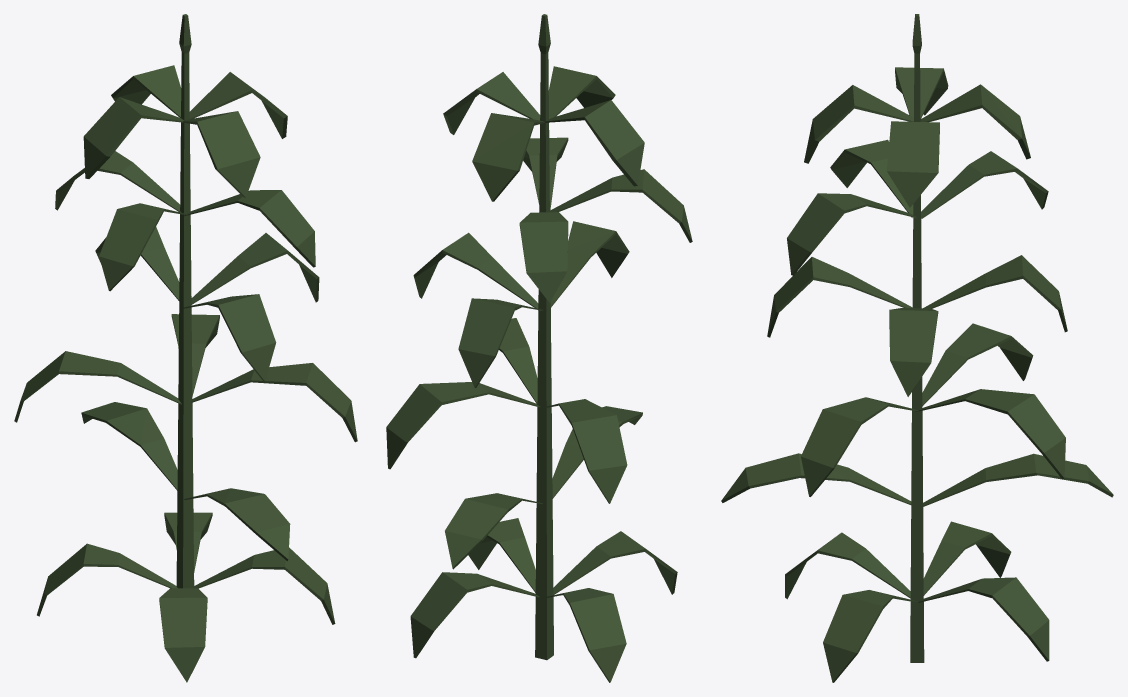
Rendered from corn.glb.
3 views of the same model, side by side, from view 1: azimuth 30°, elevation 25°; view 2: azimuth 150°, elevation 25°; view 3: azimuth 270°, elevation 25° (orthographic).
Size of the model in its own units: 0.8237 by 1.98 by 1.09.
